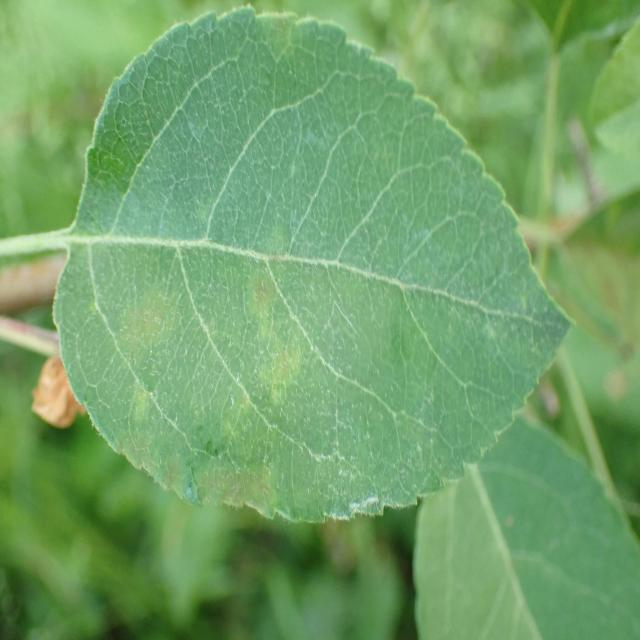scab: (99, 52, 422, 512)
